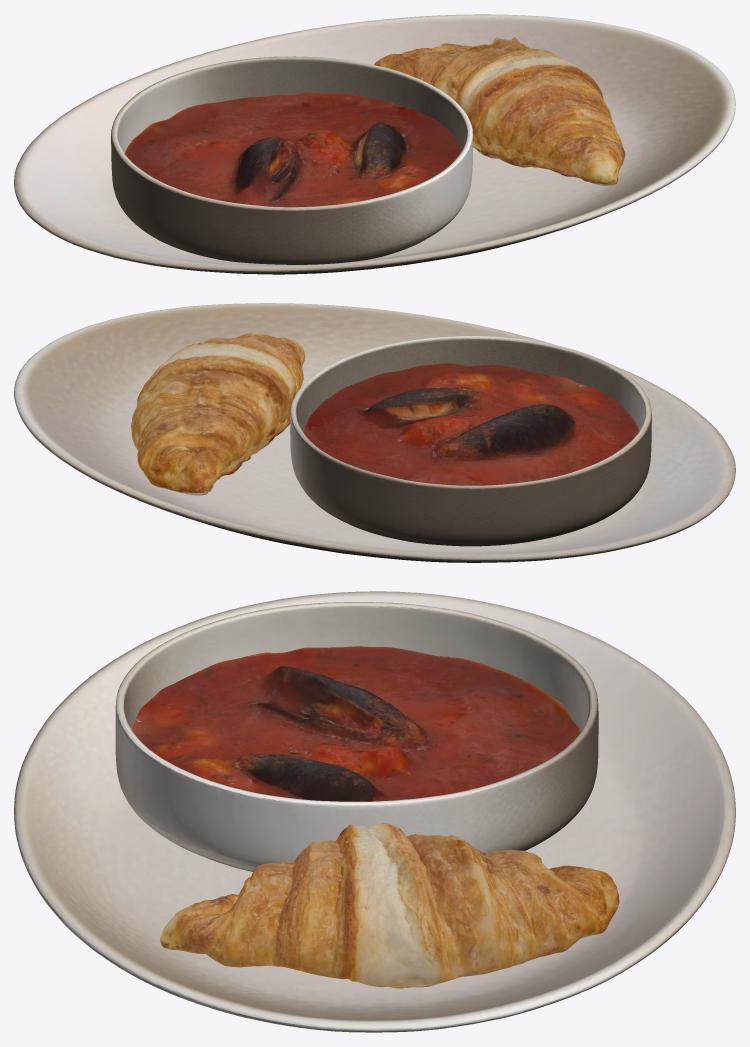
Rendered from Spicy.tomato.soup.with.seafood.002.glb.
3 views of the same model, one above another, from view 1: azimuth 30°, elevation 25°; view 2: azimuth 150°, elevation 25°; view 3: azimuth 270°, elevation 25° (orthographic). The views are drawn at different scales.
Parts seen in each view (by area): view 1: /Root/Scenes/Scene/Object_97/Object_102/Object_103/Submesh_0, /Root/Scenes/Scene/Object_97/Object_99/Object_100/Submesh_0, /Root/Scenes/Scene/Object_97/Object_98/Submesh_0, /Root/Scenes/Scene/Object_97/Object_101/Submesh_0; view 2: /Root/Scenes/Scene/Object_97/Object_102/Object_103/Submesh_0, /Root/Scenes/Scene/Object_97/Object_99/Object_100/Submesh_0, /Root/Scenes/Scene/Object_97/Object_98/Submesh_0, /Root/Scenes/Scene/Object_97/Object_101/Submesh_0; view 3: /Root/Scenes/Scene/Object_97/Object_102/Object_103/Submesh_0, /Root/Scenes/Scene/Object_97/Object_98/Submesh_0, /Root/Scenes/Scene/Object_97/Object_99/Object_100/Submesh_0, /Root/Scenes/Scene/Object_97/Object_101/Submesh_0.
Part boxes in pixels (x1=…): /Root/Scenes/Scene/Object_97/Object_102/Object_103/Submesh_0: x1=14, y1=14, x2=735, y2=274; /Root/Scenes/Scene/Object_97/Object_99/Object_100/Submesh_0: x1=111, y1=56, x2=472, y2=264; /Root/Scenes/Scene/Object_97/Object_98/Submesh_0: x1=124, y1=92, x2=460, y2=207; /Root/Scenes/Scene/Object_97/Object_101/Submesh_0: x1=374, y1=37, x2=625, y2=185; /Root/Scenes/Scene/Object_97/Object_102/Object_103/Submesh_0: x1=14, y1=303, x2=735, y2=562; /Root/Scenes/Scene/Object_97/Object_99/Object_100/Submesh_0: x1=290, y1=336, x2=651, y2=546; /Root/Scenes/Scene/Object_97/Object_98/Submesh_0: x1=303, y1=363, x2=639, y2=485; /Root/Scenes/Scene/Object_97/Object_101/Submesh_0: x1=131, y1=333, x2=305, y2=495; /Root/Scenes/Scene/Object_97/Object_102/Object_103/Submesh_0: x1=14, y1=591, x2=735, y2=1032; /Root/Scenes/Scene/Object_97/Object_98/Submesh_0: x1=132, y1=646, x2=580, y2=801; /Root/Scenes/Scene/Object_97/Object_99/Object_100/Submesh_0: x1=115, y1=602, x2=598, y2=871; /Root/Scenes/Scene/Object_97/Object_101/Submesh_0: x1=160, y1=822, x2=619, y2=988.
Size of the model in its own units: 0.3843 by 0.0453 by 0.2681.
Materials: 4 (4 with a texture image).
